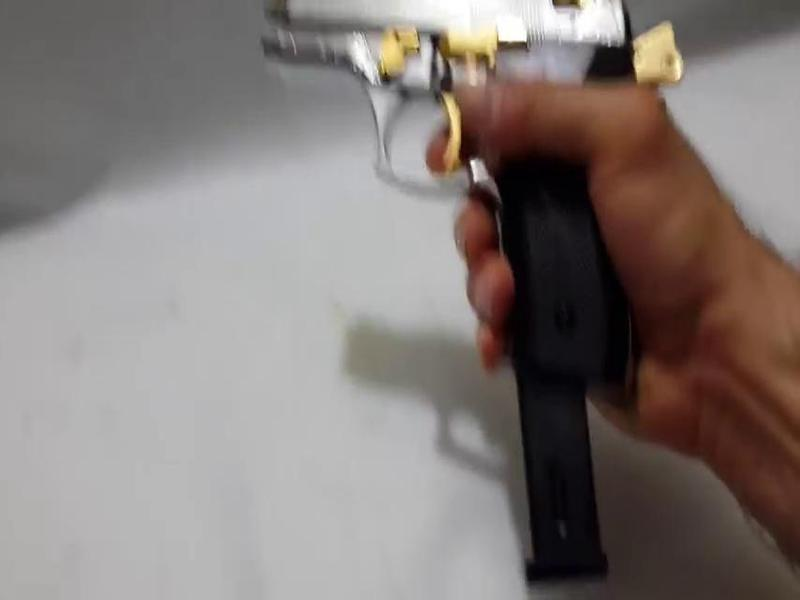Pistola: (254, 1, 654, 396)
